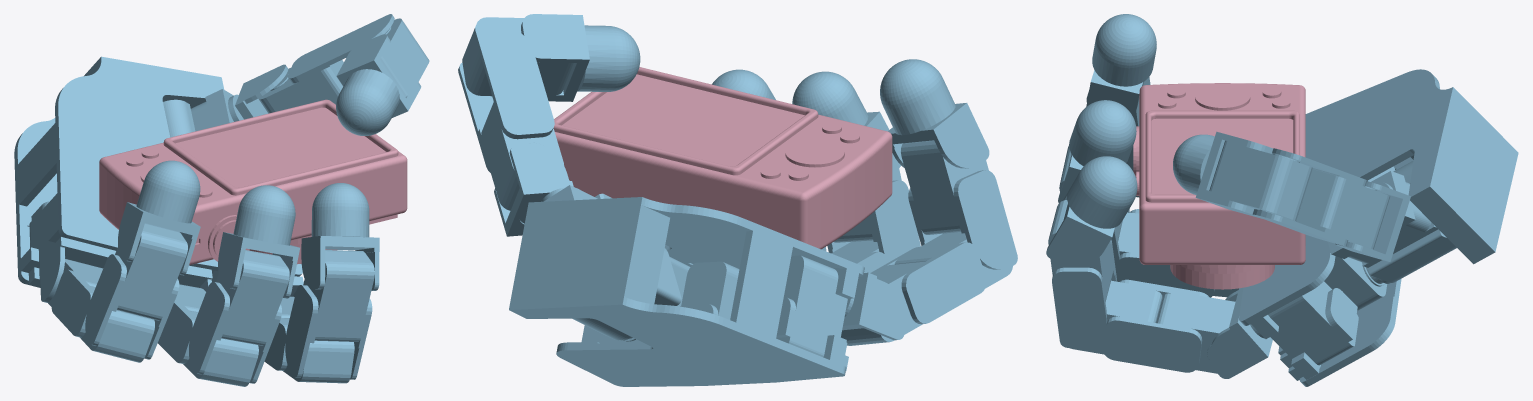
Rendered from Allegro_contactdb+camera_mesh.glb.
3 renders of one model, left to right at view 1: azimuth 30°, elevation 25°; view 2: azimuth 150°, elevation 25°; view 3: azimuth 270°, elevation 25°, orthographic. The views are drawn at different scales.
Visible parts, largest first — view 1: world; view 2: world; view 3: world.
Boxes of the visible parts, x1,y1,x2,y2 form: world: (14,14,429,386); world: (458,14,1017,386); world: (1046,14,1518,386).
Bounding box in the file's own units: 0.1969 × 0.129 × 0.1838.
